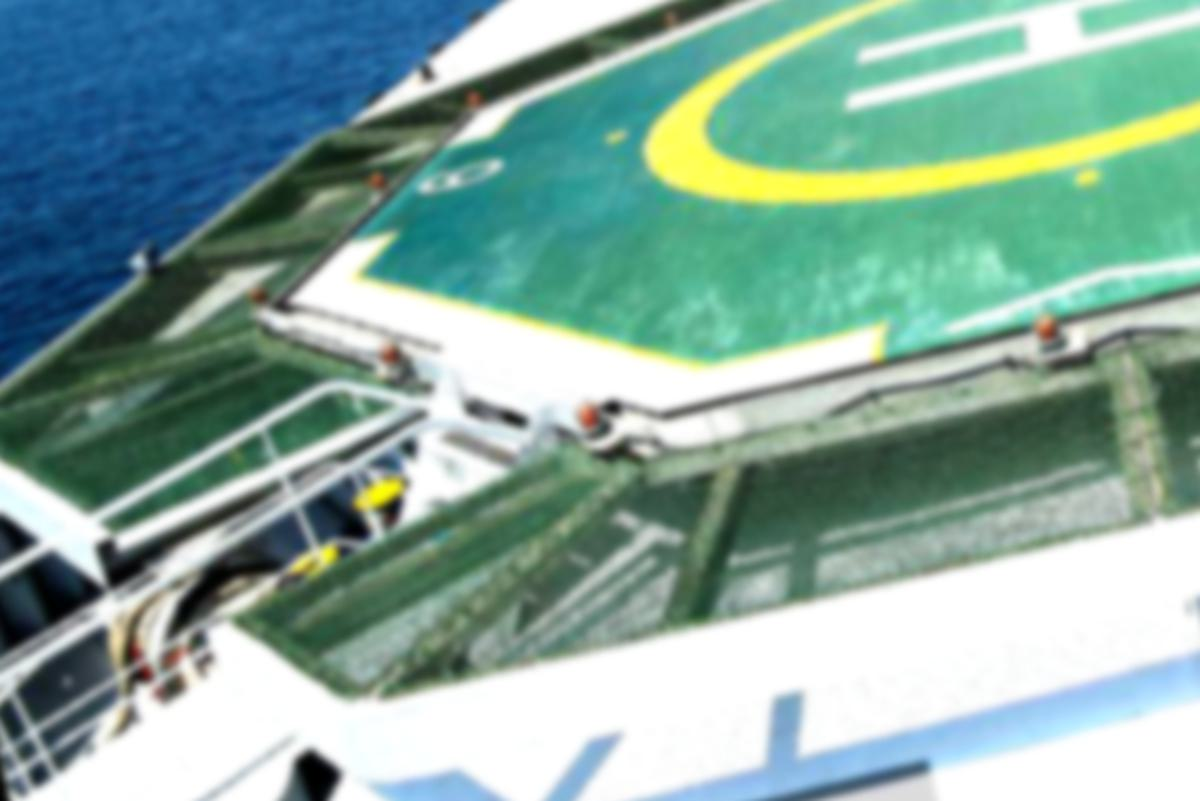Apron: (635, 2, 1200, 217)
